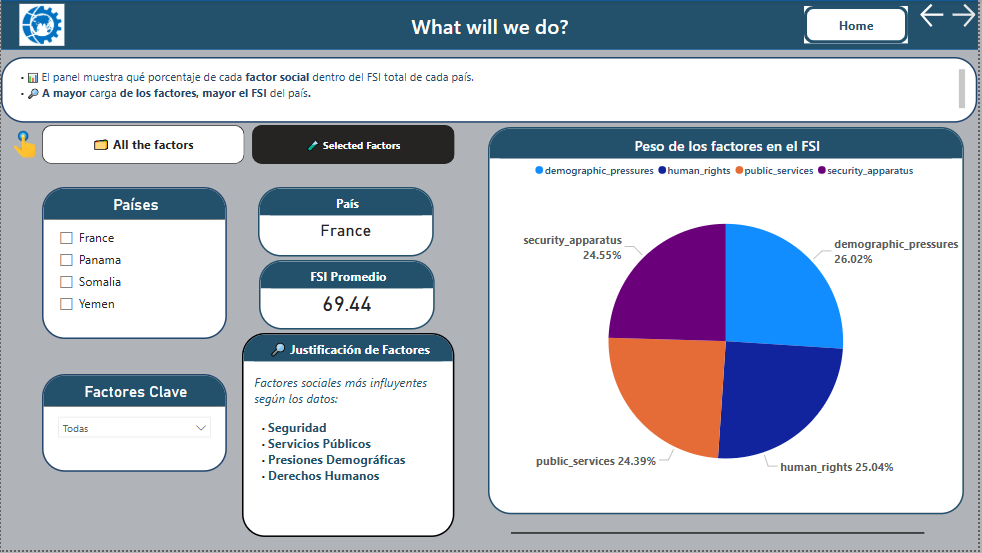

This screenshot's page, from the dashboard's own definition file:
{"tool":"powerbi","page":{"name":"What will we do?","canvas":[1280,720],"ordinal":2},"visuals":[{"type":"shape","box":[668.2,691.2,541.4,13],"z":0},{"type":"textbox","title":"🔎 Justificación de Factores","box":[315,436,277.9,267],"z":2000},{"type":"pieChart","title":"Peso de los factores en el FSI","fields":{"Category":["Selected_Factors.factor_name"],"Y":["Z_Table_Measures.FactorWeight"]},"box":[637,166,622.7,507],"z":3000},{"type":"slicer","title":"Factores Clave","fields":{"Values":["Selected_Factors.factor_name"]},"box":[53.3,489.6,242,128.2],"z":8000},{"type":"card","title":"FSI Promedio","fields":{"Values":["Z_Table_Measures.Average_FSI"]},"box":[338,340,230,90.7],"z":9000},{"type":"slicer","title":"Países","fields":{"Values":["SelectedCountries.country"]},"box":[53.8,245,242,199],"z":10000},{"type":"card","title":"País","fields":{"Values":["Min(SelectedCountries.country)"]},"box":[337,245,230,90.7],"z":11000},{"type":"textbox","title":"¿Qué haremos?","box":[0,74,1278.2,86.1],"z":13000},{"type":"image","box":[0,166.7,67,49.1],"z":14000},{"type":"shape","box":[0,0,1280,65.5],"z":15000},{"type":"actionButton","box":[1239.6,0,40.4,40.4],"z":16000},{"type":"actionButton","box":[1199.2,0,40.4,40.4],"z":17000},{"type":"image","box":[17.1,0,73.7,65.1],"z":18000},{"type":"bookmarkNavigator","box":[53.3,164.2,541.4,51.8],"z":19000},{"type":"actionButton","title":"Portada","box":[1051.5,8.4,136.1,48.7],"z":20000}]}

Visuals, with their boxes in screenshot pixels (x1, y1, x2, y2), scaled from the page's 1280x720 canvas onto the 982x553 screenshot:
shape: 513, 531, 928, 541
"🔎 Justificación de Factores" textbox: 242, 335, 455, 540
"Peso de los factores en el FSI" pieChart: 489, 127, 966, 517
"Factores Clave" slicer: 41, 376, 227, 475
"FSI Promedio" card: 259, 261, 436, 331
"Países" slicer: 41, 188, 227, 341
"País" card: 259, 188, 435, 258
"¿Qué haremos?" textbox: 0, 57, 981, 123
image: 0, 128, 51, 166
shape: 0, 0, 981, 50
actionButton: 951, 0, 981, 31
actionButton: 920, 0, 951, 31
image: 13, 0, 70, 50
bookmarkNavigator: 41, 126, 456, 166
"Portada" actionButton: 807, 6, 911, 44
